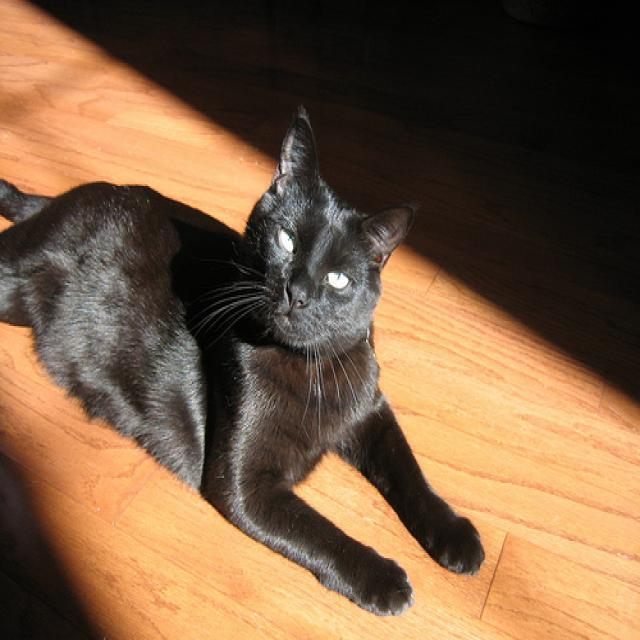Bombay: (241, 104, 414, 345)
